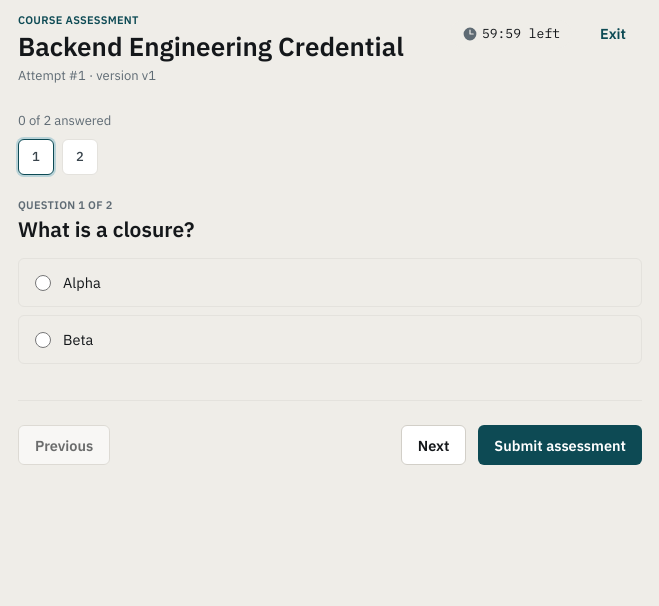
Test case: AssessmentAttemptShell (runner) › expiration authority › disables editing when a save is rejected as expired (server, not clock)
The width and height of the screenshot is (659, 606).
Click the radio button labelled "Alpha".
click(43, 283)  # box [35,275,51,291]
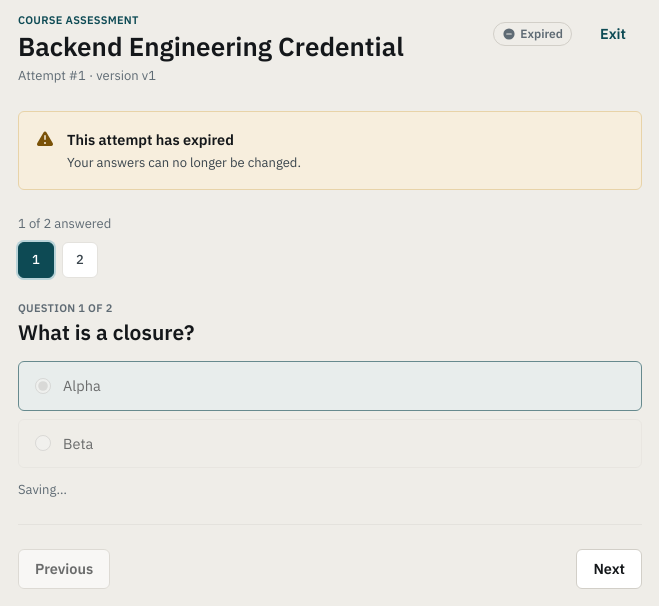
Result: the text "This attempt has expired" is shown at [67,130,234,148]
